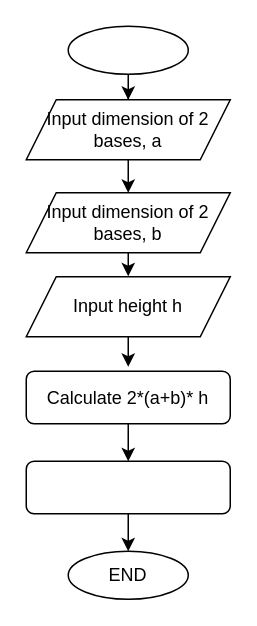
Image size: 257x626. Some labels were removed from this diagram. The shapes that lost their labels are listed below. From the top down, each one's centre as x and y in pixels, then its label:
At (127,49): "START".
At (127,487): "Show Area result".
